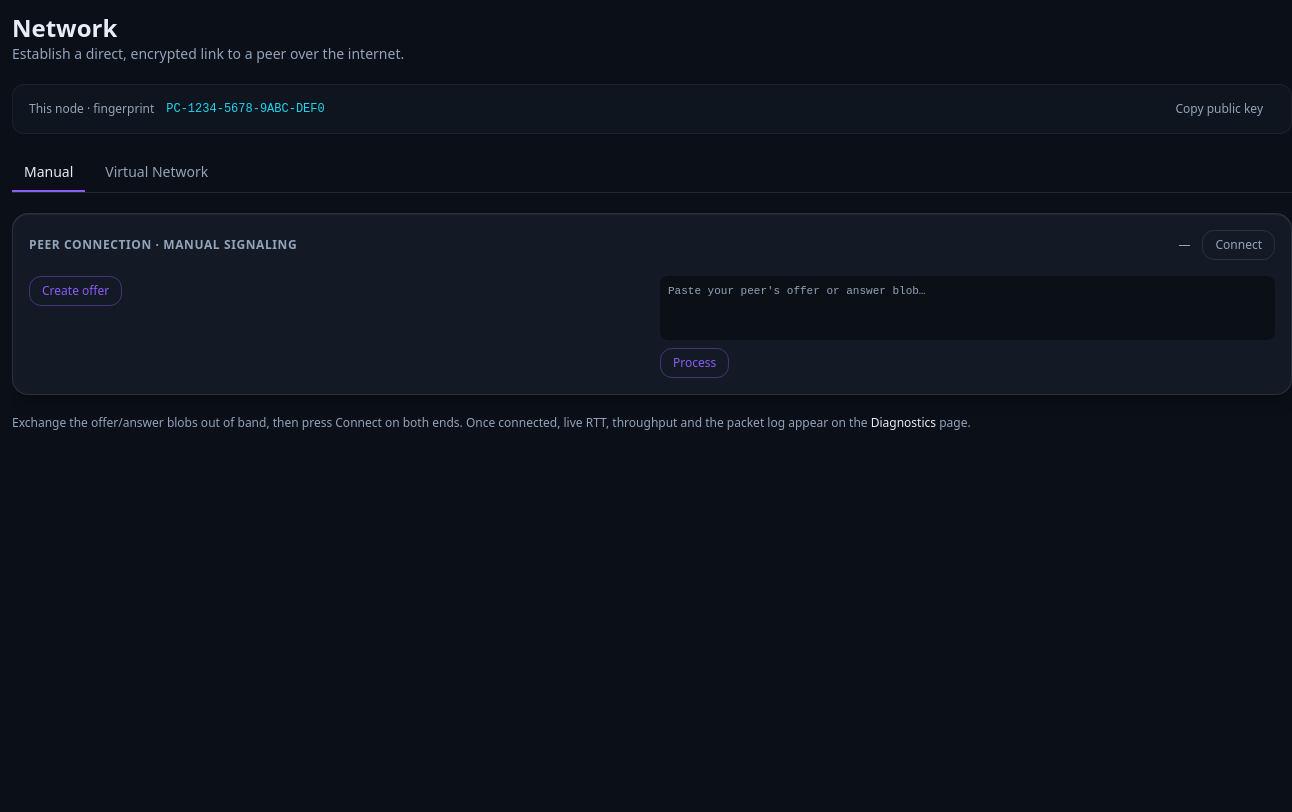
Test: Network page › processes a pasted offer into an answer, mapping blob -> blobStr
Type "PCPV1.OFFER.xyz.999" into the text box with test id "peer-input". click: (968, 308)
box: [660,276,1275,340]
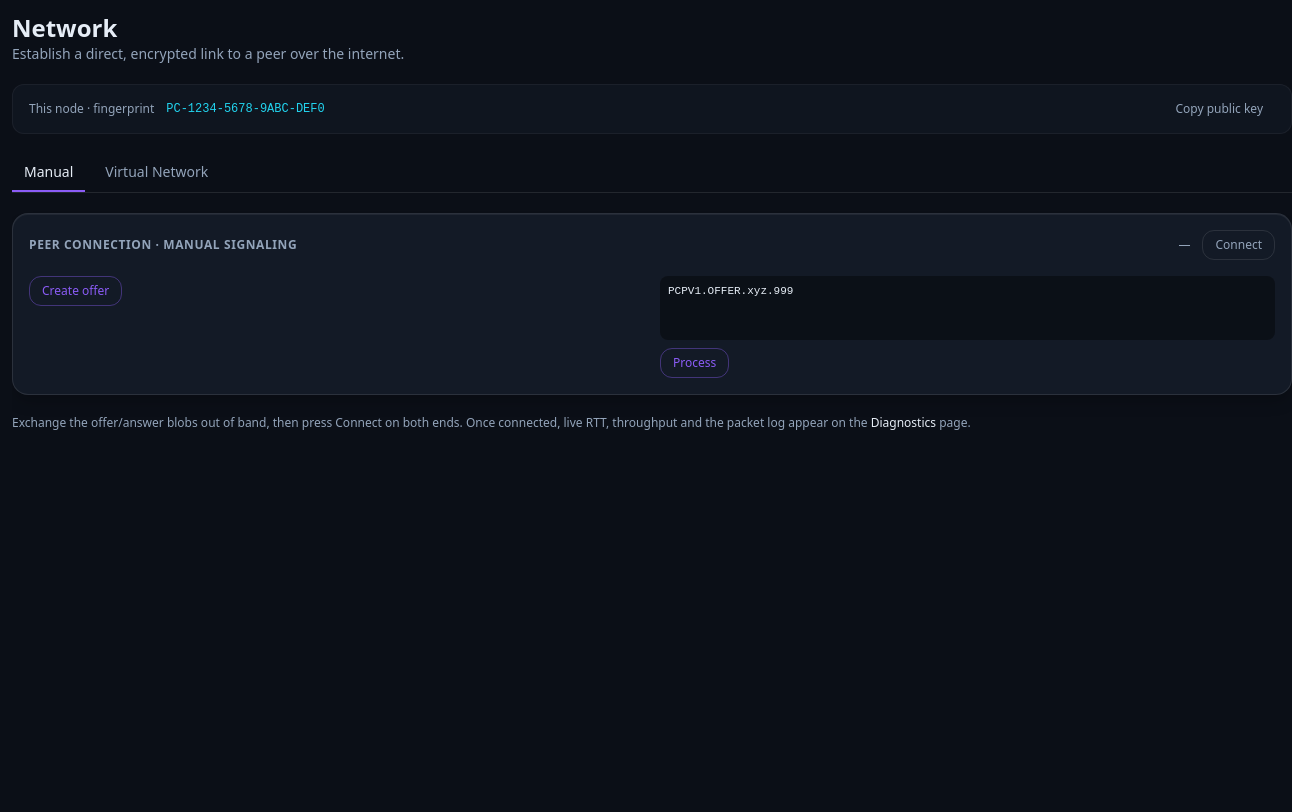
Click the button with test id "process-btn". click: (695, 363)
box: [660,348,729,378]
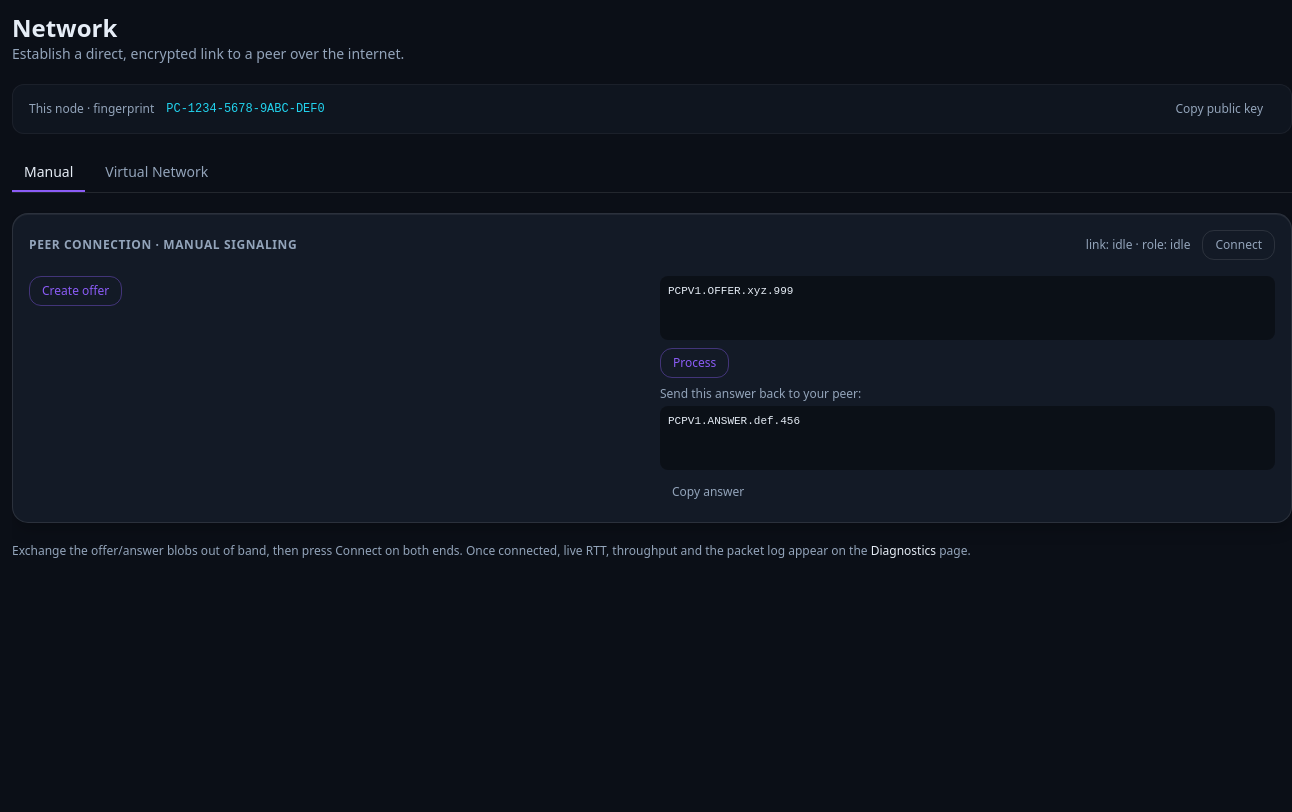
Expected: the text box with test id "answer-blob" holds "PCPV1.ANSWER.def.456", [660,406,1275,470]
